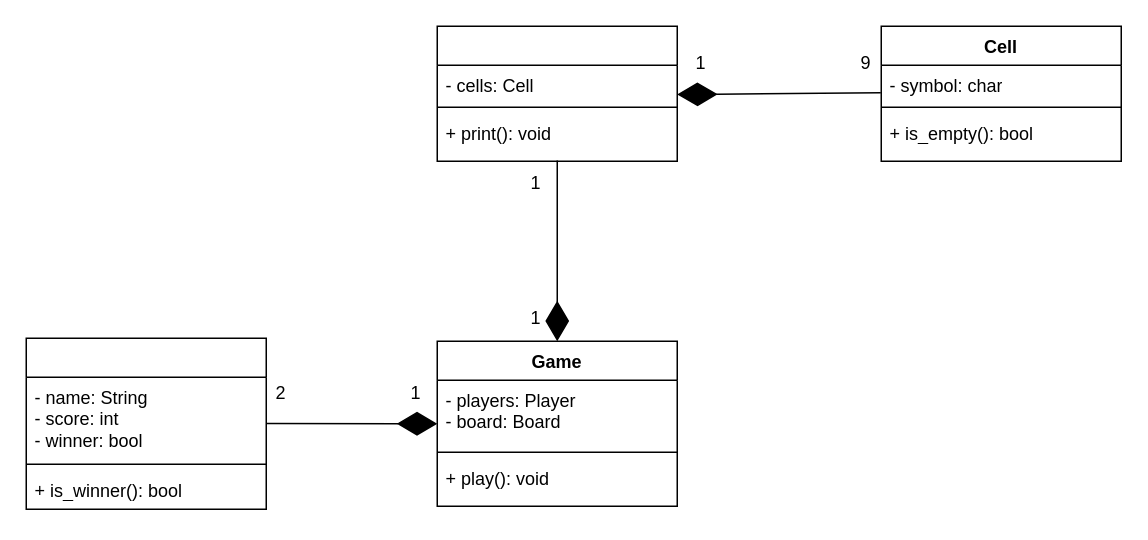
Some shapes in this 1148 by 540 pixel diagram are drawn without their labels. Here are the shapes that lost their labels. From the top down, the box of each, then its label:
(436, 25, 677, 161): Board
(25, 337, 266, 509): Player
